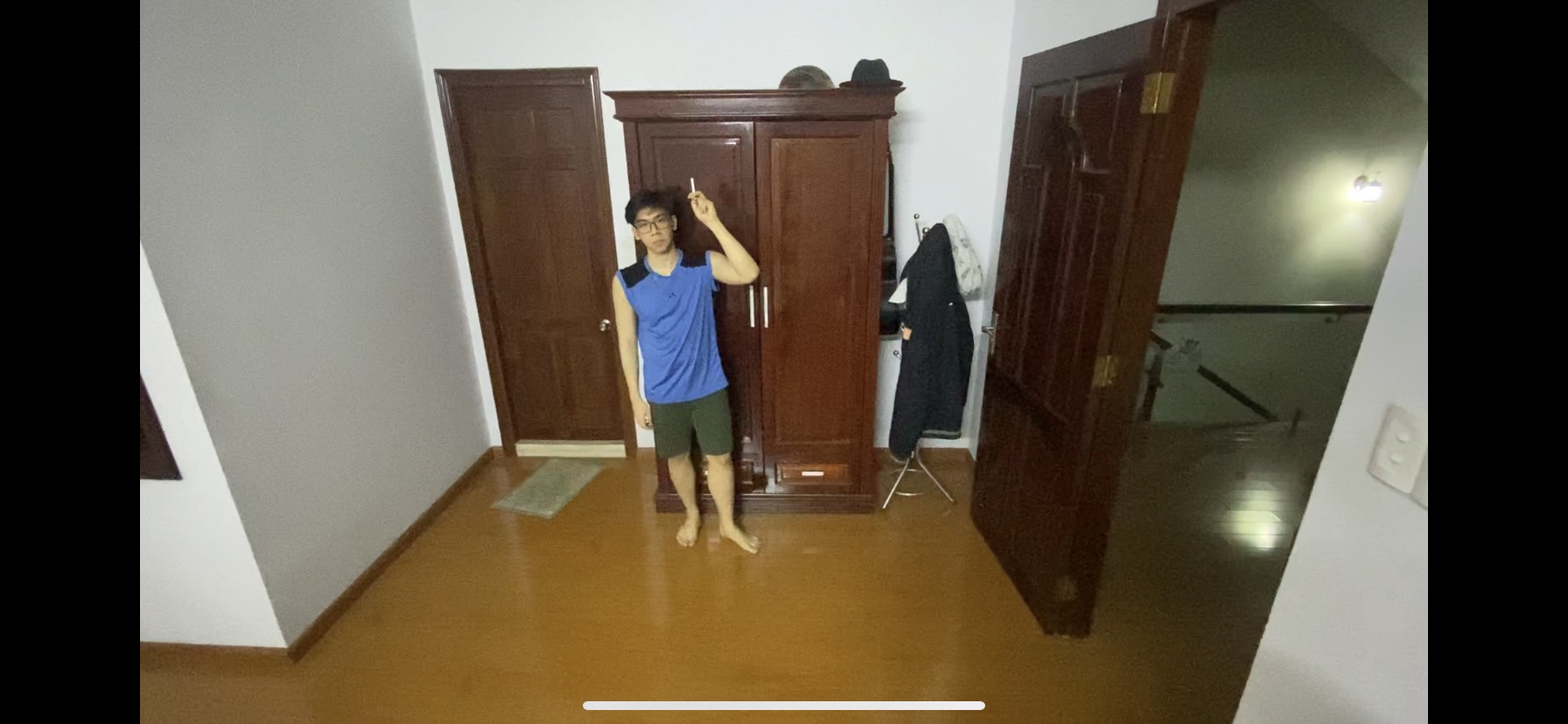cigarette: (685, 177, 698, 193)
person: (587, 175, 778, 560)
